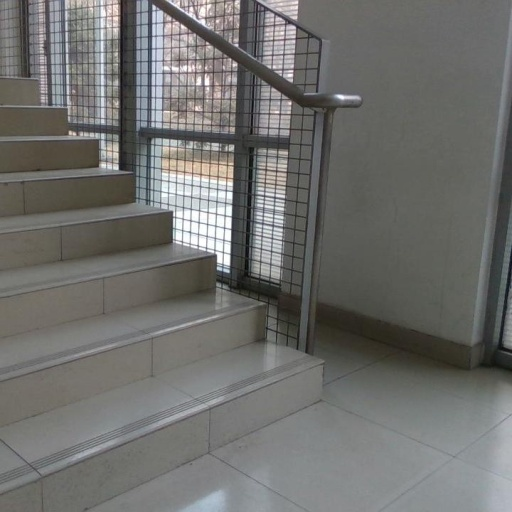Stairs: (0, 78, 322, 512)
